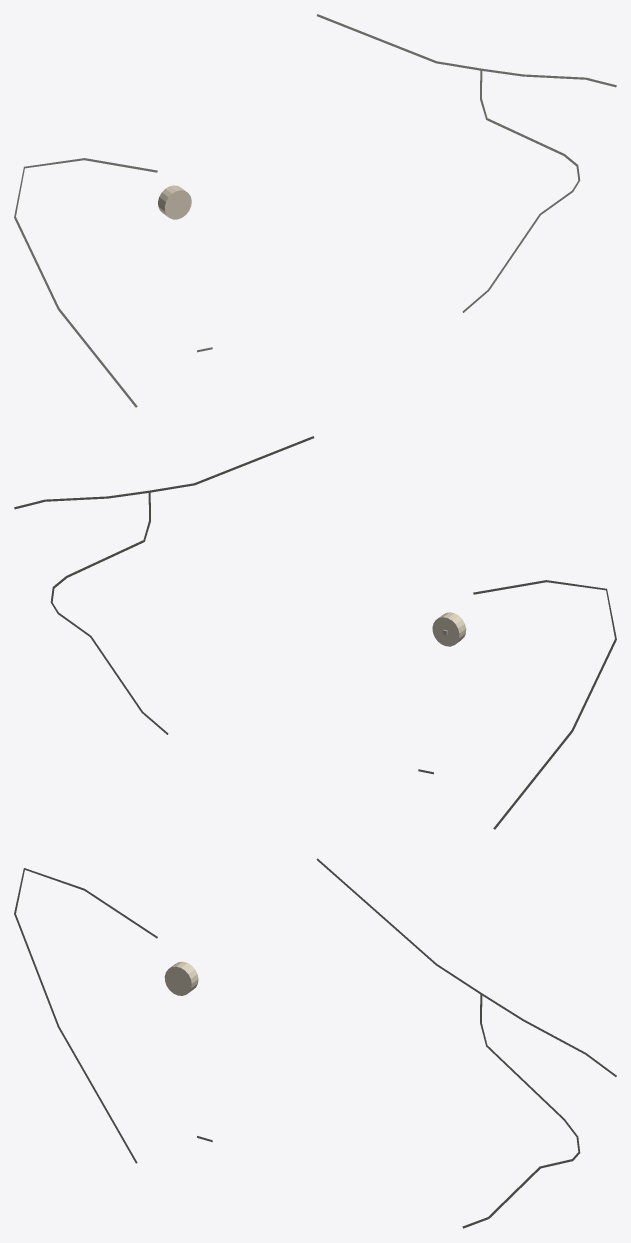
The model's file is historic-palestine-08_09_3495_3033.glb.
3 renders of one model, top to bottom at view 1: azimuth 30°, elevation 25°; view 2: azimuth 150°, elevation 25°; view 3: azimuth 330°, elevation 25°, orthographic.
Parts seen in each view (by area): view 1: Road .002, Road .001, Building_, Road; view 2: Road .002, Road .001, Road, Building_; view 3: Road .002, Road .001, Building_, Road.
Boxes of the visible parts, x1,y1,x2,y2 form: Road .002: [14, 158, 157, 407]; Road .001: [316, 14, 616, 87]; Building_: [158, 185, 191, 219]; Road: [462, 69, 580, 312]; Road .002: [473, 580, 616, 829]; Road .001: [14, 436, 314, 509]; Road: [50, 491, 168, 734]; Building_: [432, 612, 466, 646]; Road .002: [14, 868, 157, 1163]; Road .001: [316, 858, 616, 1076]; Building_: [164, 961, 198, 995]; Road: [462, 993, 580, 1228].
Size of the model in its own units: 385 by 213 by 8.7.
